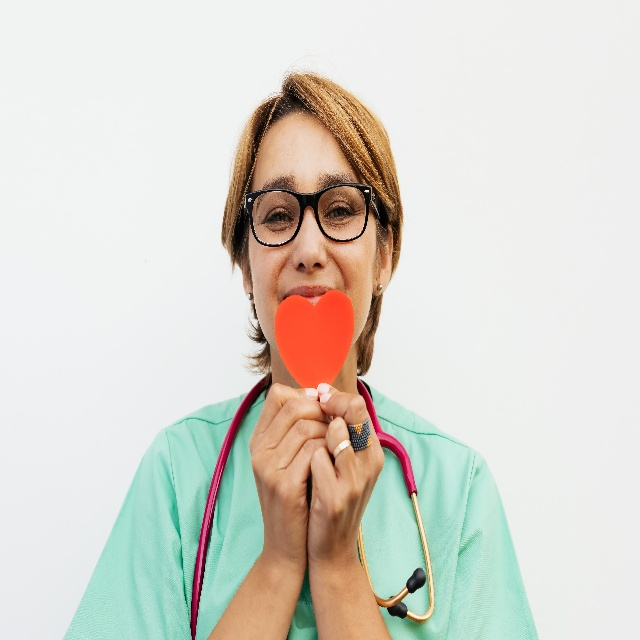Gafas: (244, 188, 379, 245)
Sin_guantes: (246, 379, 334, 574), (308, 378, 386, 585)
